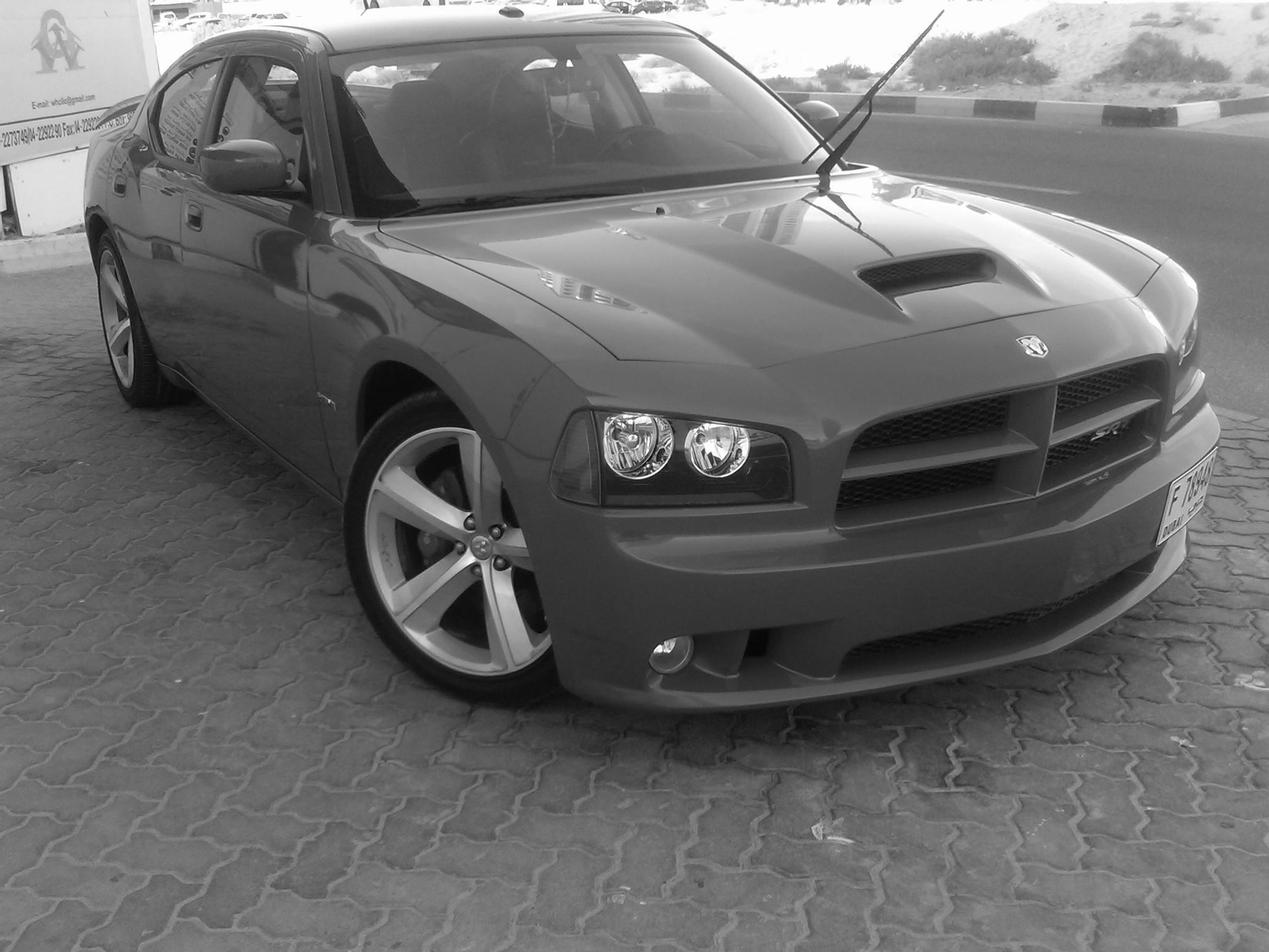car: (84, 1, 1228, 722)
